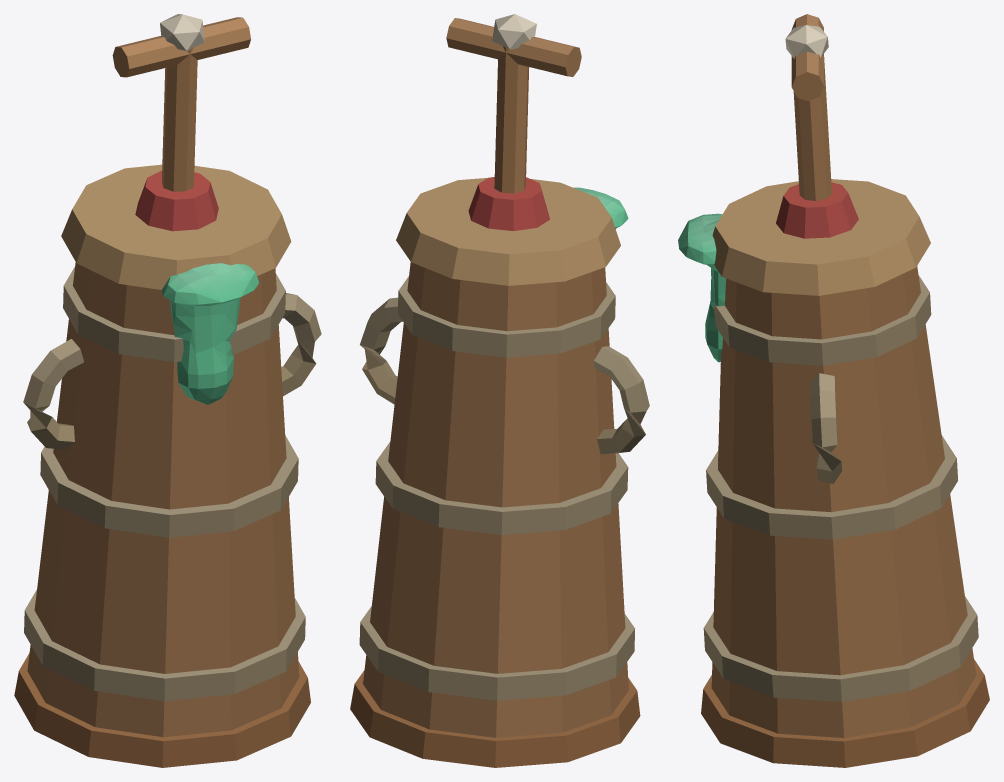
Rendered from ranch_milk_churn.fbx.
3 views of the same model, side by side, from view 1: azimuth 30°, elevation 25°; view 2: azimuth 150°, elevation 25°; view 3: azimuth 270°, elevation 25° (orthographic). The views are drawn at different scales.
Parts seen in each view (by area): view 1: ranch_milk_churn; view 2: ranch_milk_churn; view 3: ranch_milk_churn.
Boxes of the visible parts, <box> form: ranch_milk_churn: <box>14,14,321,767</box>; ranch_milk_churn: <box>350,14,649,767</box>; ranch_milk_churn: <box>678,14,989,767</box>.
Size of the model in its own units: 2.65 by 6.09 by 2.5.
